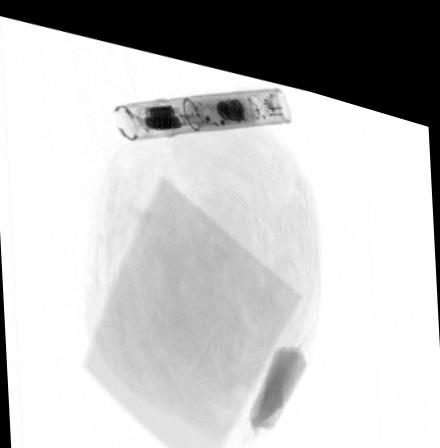Baton: (110, 69, 293, 135)
